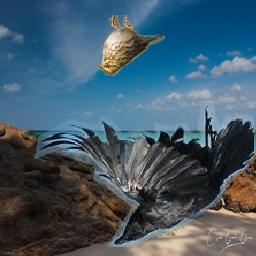Crow: (34, 105, 254, 248)
Sparrow: (95, 16, 165, 77)
